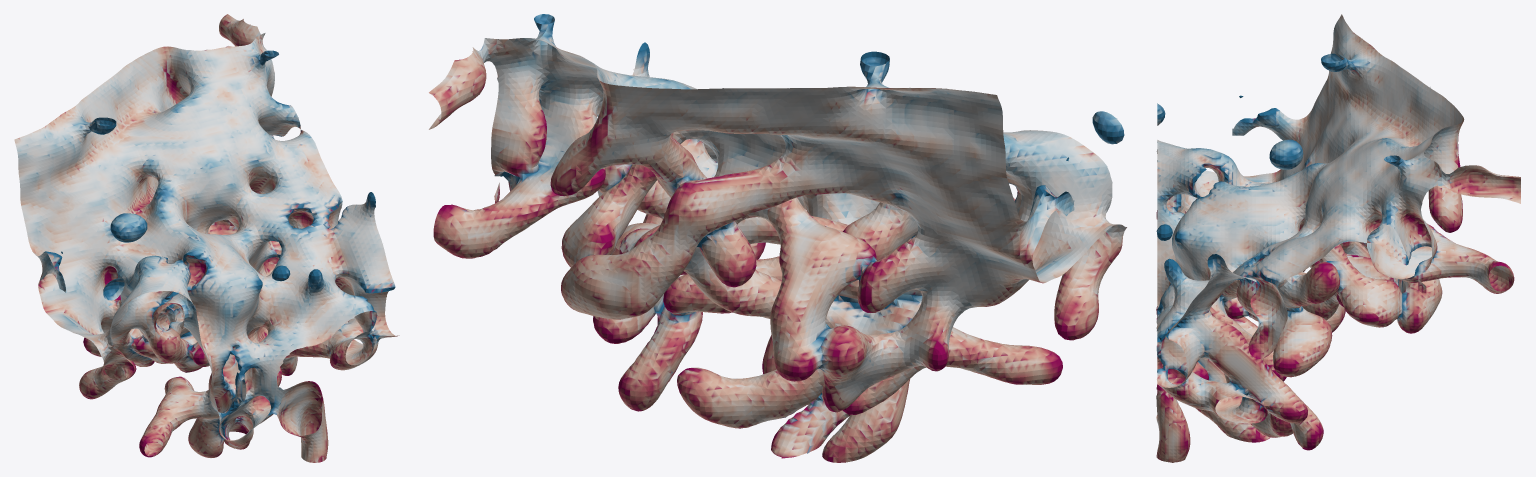
The model's file is crop1043_curvature.glb.
3 views of the same model, side by side, from view 1: azimuth 30°, elevation 25°; view 2: azimuth 150°, elevation 25°; view 3: azimuth 270°, elevation 25° (orthographic). The views are drawn at different scales.
Visible parts, largest first — view 1: world; view 2: world; view 3: world.
Part boxes in pixels (x1=…): world: x1=14, y1=14, x2=399, y2=462; world: x1=429, y1=14, x2=1126, y2=462; world: x1=1156, y1=14, x2=1520, y2=462.
Size of the model in its own units: 1480 by 1480 by 1478.
